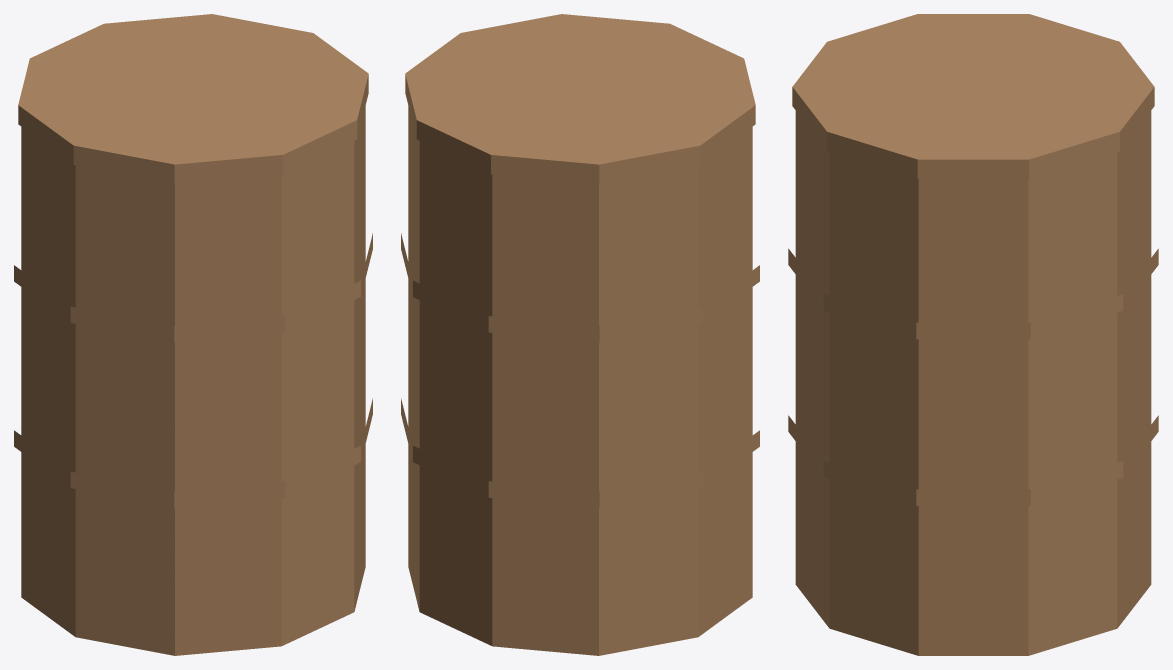
The model's file is barrel.glb.
3 views of the same model, side by side, from view 1: azimuth 30°, elevation 25°; view 2: azimuth 150°, elevation 25°; view 3: azimuth 270°, elevation 25° (orthographic).
Visible parts, largest first — view 1: barrel; view 2: barrel; view 3: barrel.
Boxes of the visible parts, x1=… form: barrel: x1=14, y1=14, x2=372, y2=655; barrel: x1=401, y1=14, x2=759, y2=655; barrel: x1=788, y1=14, x2=1158, y2=655.
Size of the model in its own units: 0.5744 by 0.895 by 0.604.
